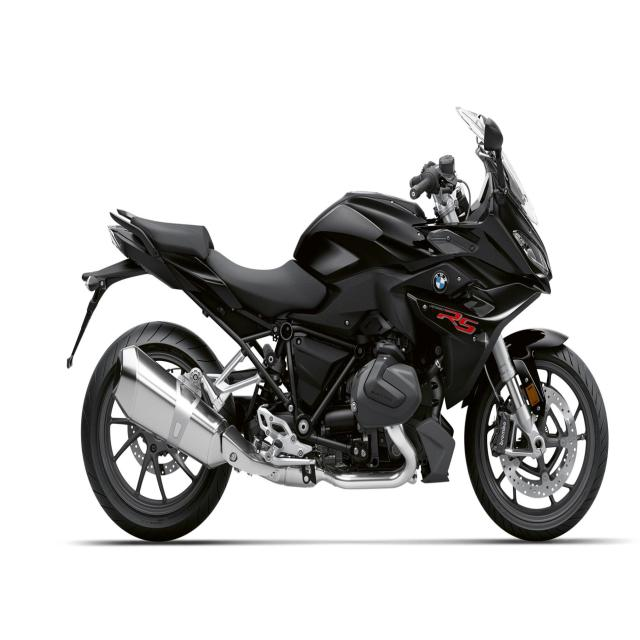Motorcycle: (75, 111, 609, 541)
